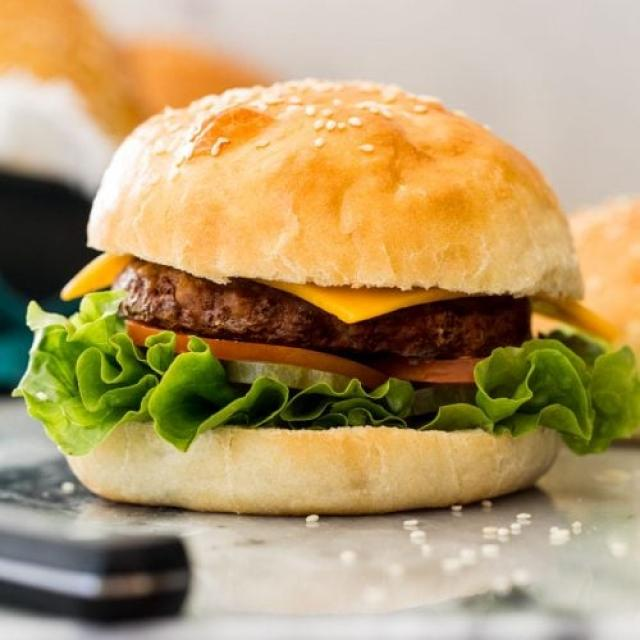Bun: (78, 67, 588, 272)
Lettuce: (8, 283, 206, 458)
